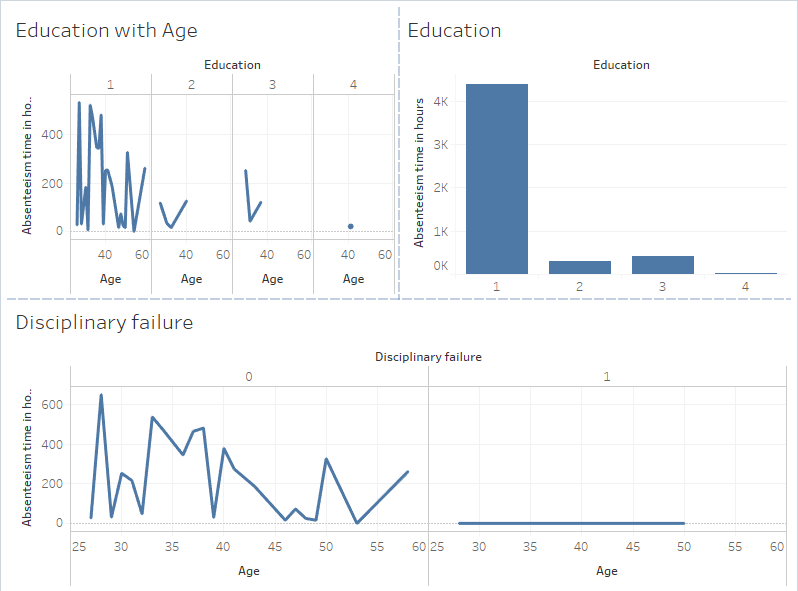

What the dashboard file says about the page in this screenshot:
{"tool":"tableau","page":{"name":"Dashboard 7","canvas":[800,600],"ordinal":8},"visuals":[{"type":"worksheet","title":"Sheet 18","mark":"Automatic","rows":["Absenteeism time in hours"],"cols":["Education","Age"],"box":[8,8,392,292]},{"type":"worksheet","title":"Sheet 20","mark":"Automatic","rows":["Absenteeism time in hours"],"cols":["Education"],"box":[400,8,392,292]},{"type":"worksheet","title":"Sheet 19","mark":"Automatic","rows":["Absenteeism time in hours"],"cols":["Disciplinary failure","Age"],"box":[8,300,784,292]}]}

Visuals, with their boxes in screenshot pixels (x1, y1, x2, y2), scaled from the page's 800x600 canvas onto the 798x591 screenshot:
"Sheet 18" worksheet: (8, 8, 399, 296)
"Sheet 20" worksheet: (399, 8, 790, 296)
"Sheet 19" worksheet: (8, 296, 790, 583)
